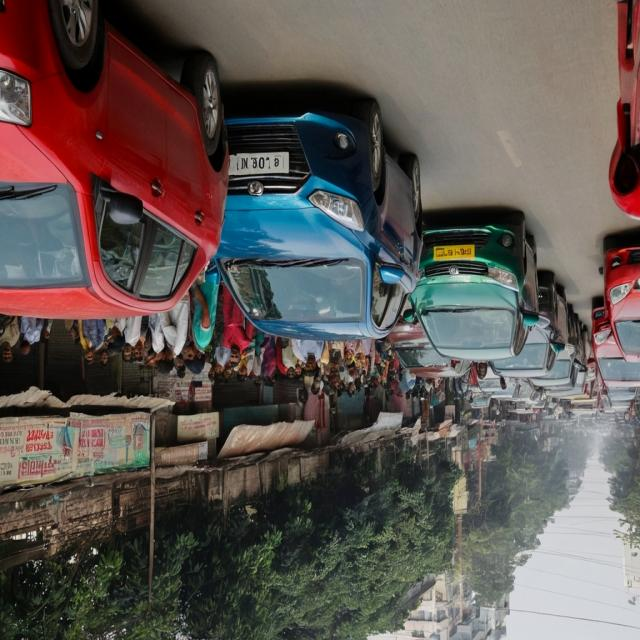black: (487, 268, 567, 374)
blue: (202, 79, 420, 343)
green: (406, 199, 543, 364)
maroon: (386, 312, 471, 381)
red: (0, 0, 224, 327), (602, 231, 640, 365), (587, 296, 640, 389)
